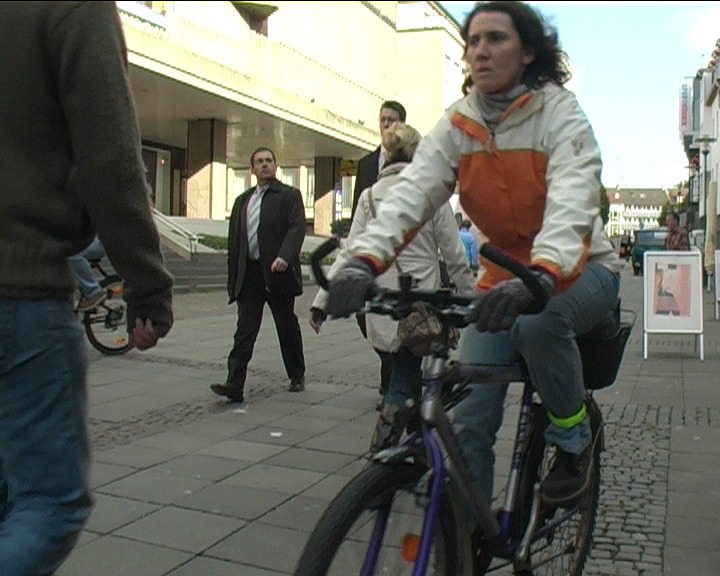deflection: (230, 141, 308, 241)
